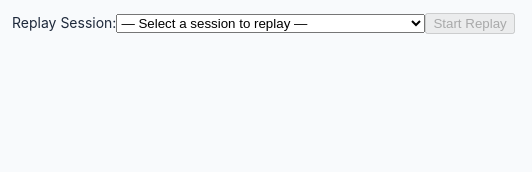
Test case: ReplaySessionSelector component › enables Start Replay button when session selected
Select "sess-1 (app-1, agent-1, 10 events, 12:16:40 AM)" in the dropdown labelled "Replay Session:": (271, 24) x1=116 y1=14 x2=425 y2=33
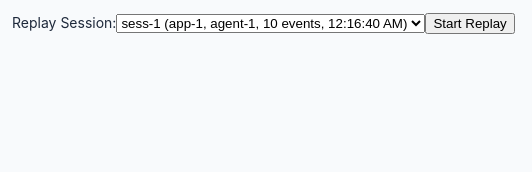
Expected: the button "Start Replay" is enabled, x1=425 y1=13 x2=515 y2=34
